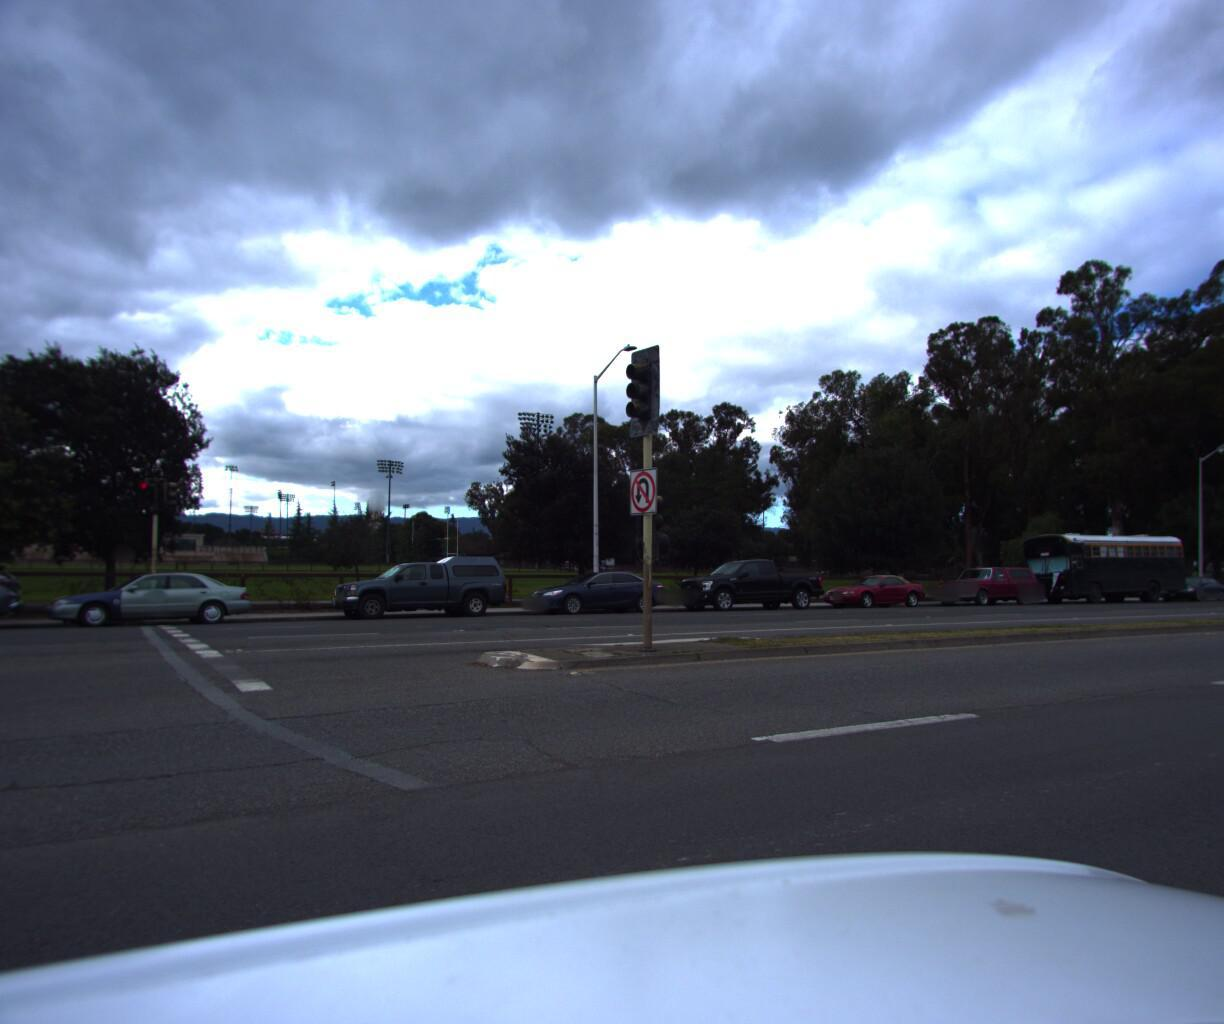bus: (1005, 522, 1189, 600)
car: (311, 549, 516, 618), (32, 568, 264, 628), (662, 553, 828, 609), (521, 566, 672, 613), (926, 559, 1040, 602), (814, 567, 932, 603), (0, 555, 35, 639), (1150, 569, 1224, 596), (1205, 559, 1224, 595), (1216, 561, 1224, 601)
